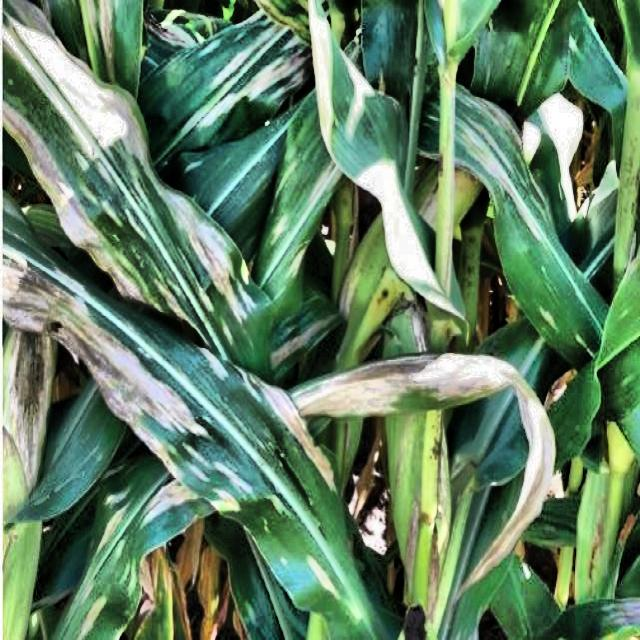blight: (5, 16, 245, 317)
